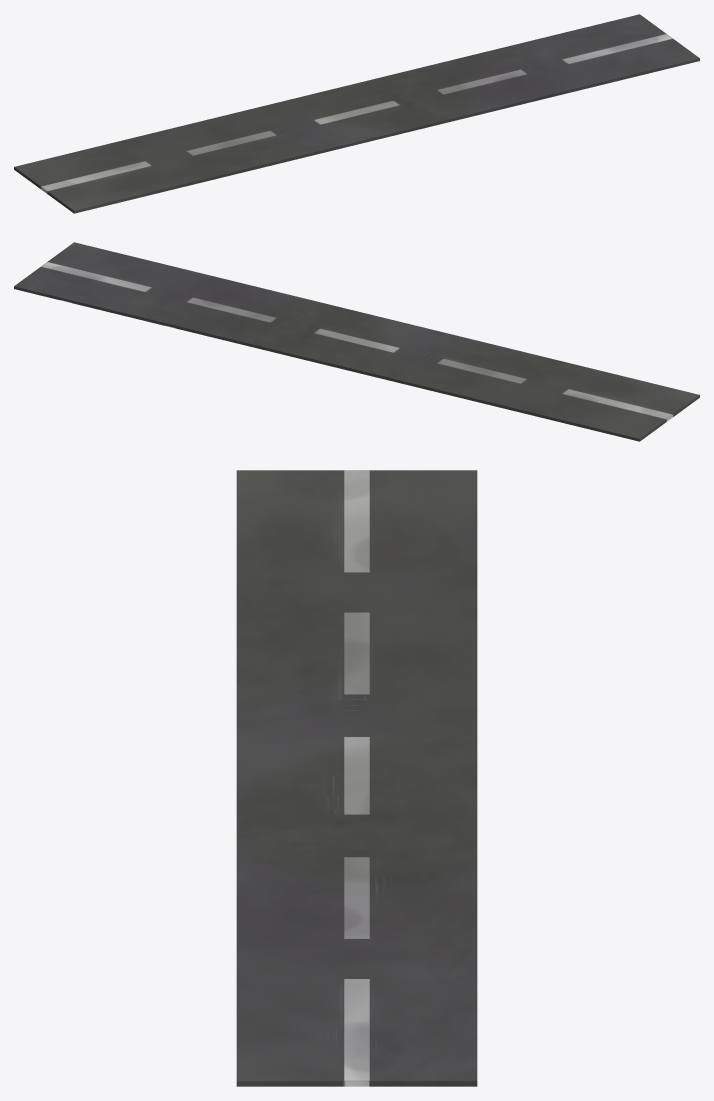
File: Road.fbx
3 views of the same model, one above another, from view 1: azimuth 30°, elevation 25°; view 2: azimuth 150°, elevation 25°; view 3: azimuth 270°, elevation 25° (orthographic). The views are drawn at different scales.
Visible parts, largest first — view 1: Cube; view 2: Cube; view 3: Cube.
Boxes of the visible parts, x1,y1,x2,y2 form: Cube: (14,14,699,213); Cube: (14,242,699,441); Cube: (236,470,477,1086).
Size of the model in its own units: 4200 by 17.4 by 700.
